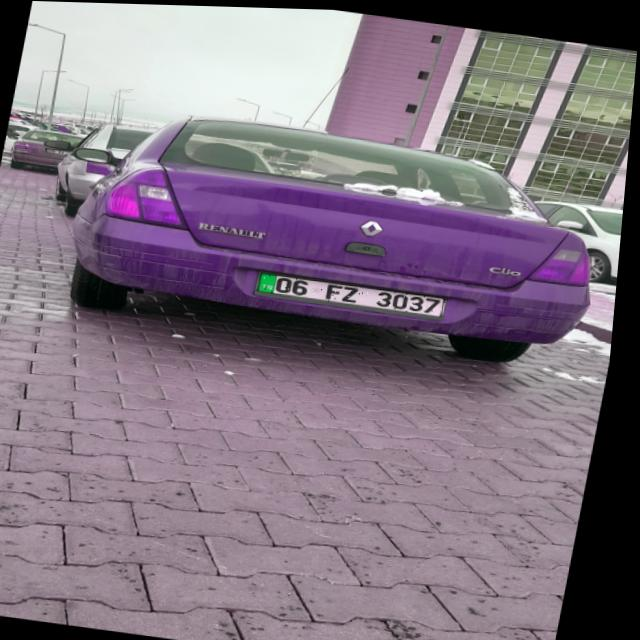license_plate: (260, 270, 452, 313)
